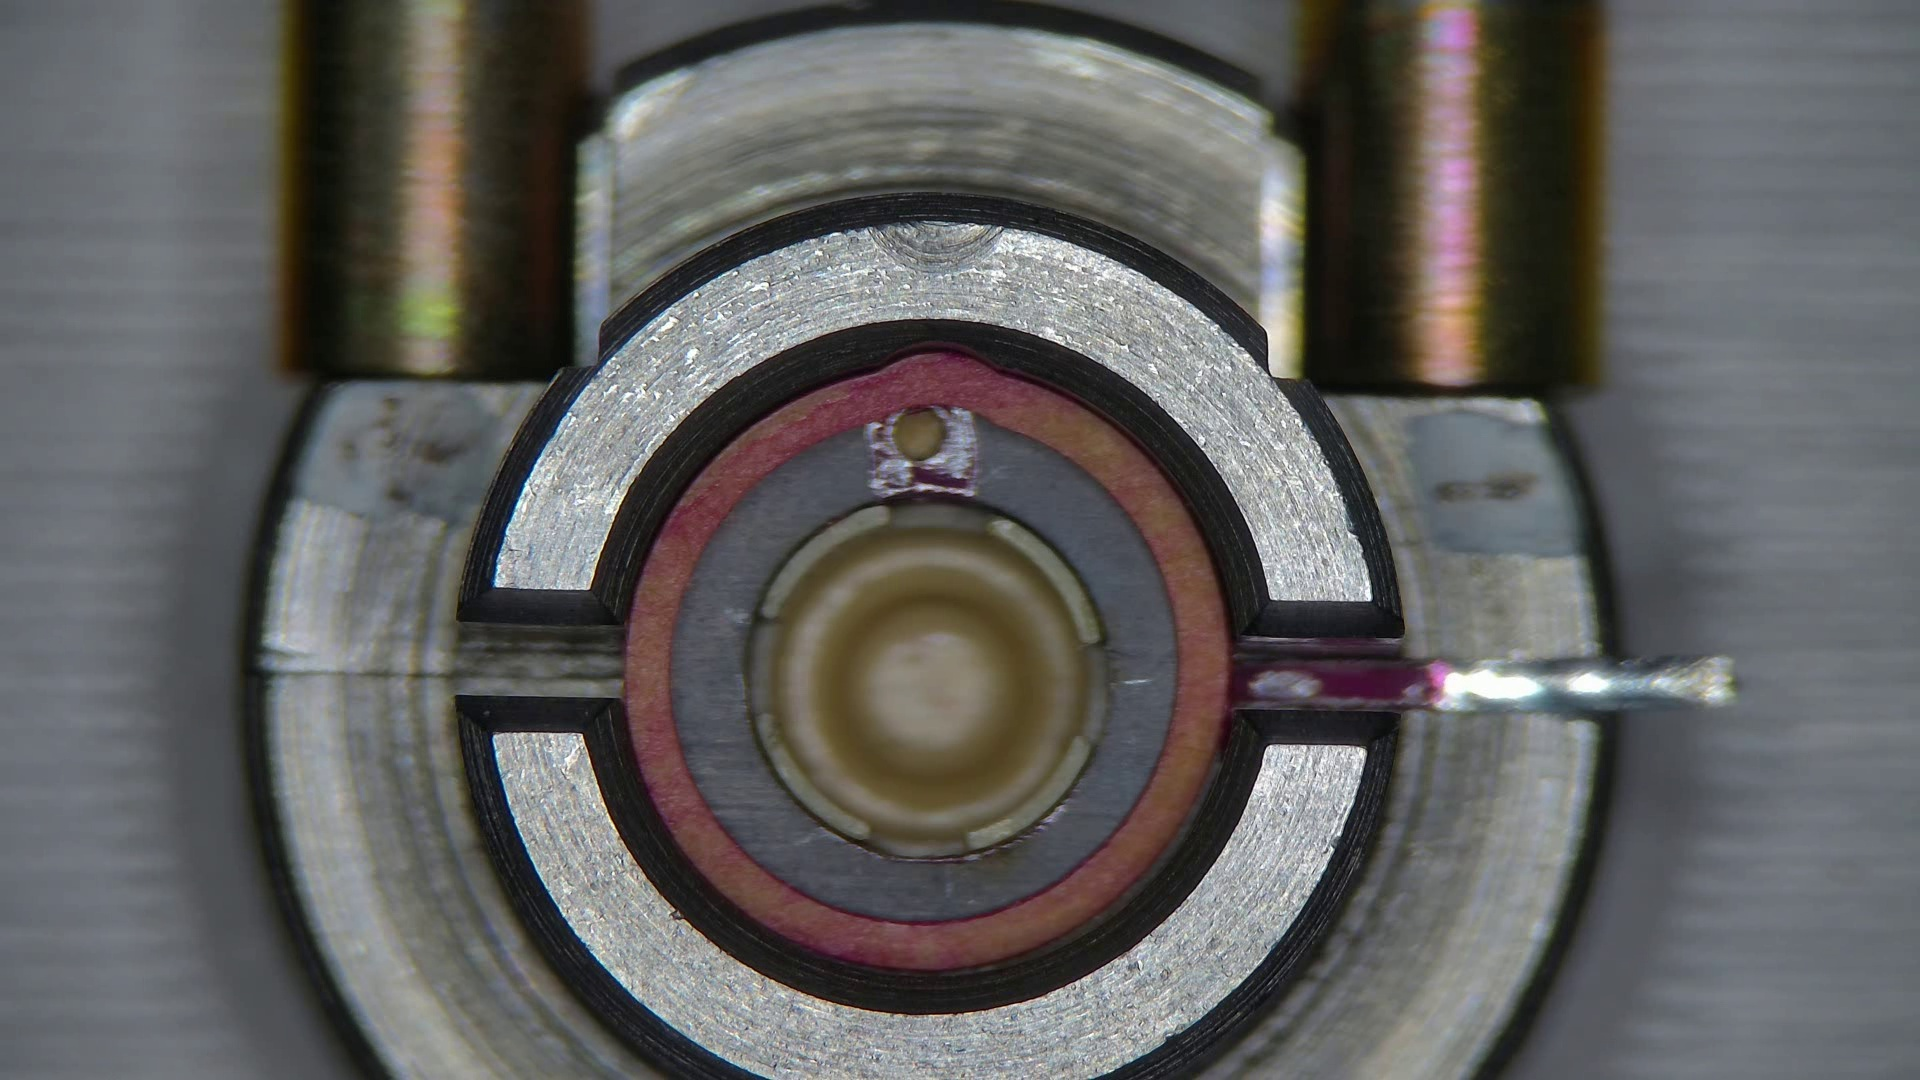GreyOring: (625, 349, 1232, 972)
YellowOring: (673, 411, 1174, 919)
